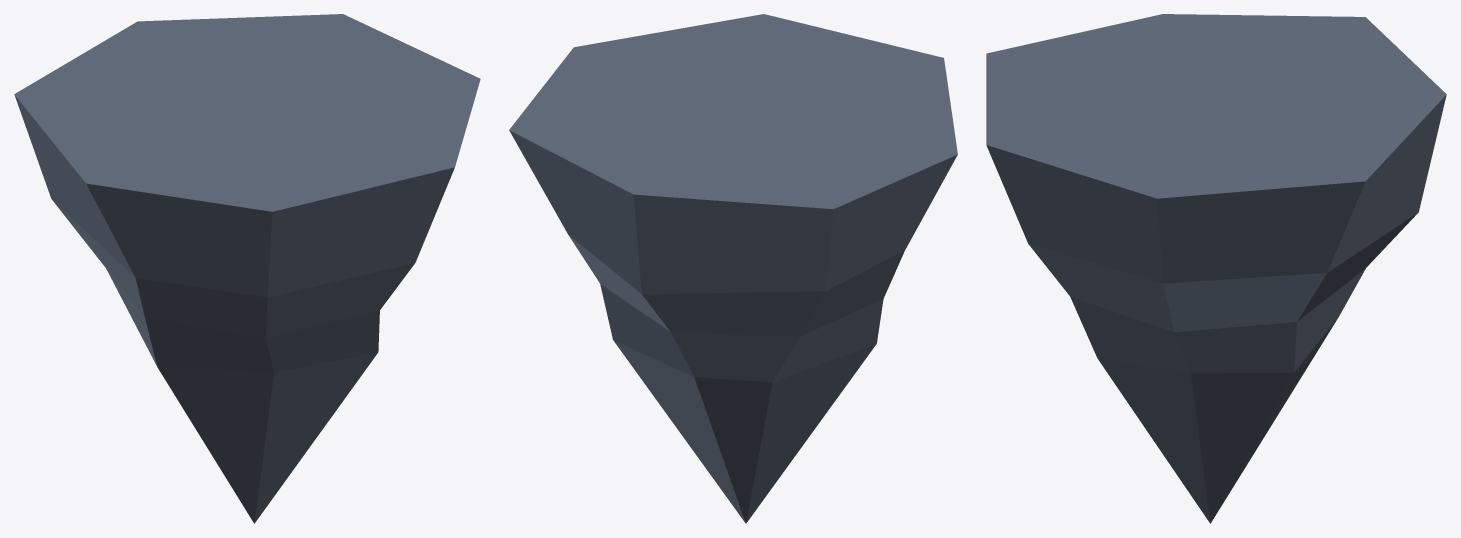
Rendered from rockTrap.fbx.
3 views of the same model, side by side, from view 1: azimuth 30°, elevation 25°; view 2: azimuth 150°, elevation 25°; view 3: azimuth 270°, elevation 25° (orthographic). The views are drawn at different scales.
Parts seen in each view (by area): view 1: rockSpike; view 2: rockSpike; view 3: rockSpike.
Boxes of the visible parts, bbox=[...] form: rockSpike: bbox=[14, 14, 480, 523]; rockSpike: bbox=[509, 14, 957, 523]; rockSpike: bbox=[986, 14, 1446, 523].
Size of the model in its own units: 93.19 by 95.09 by 92.52.
